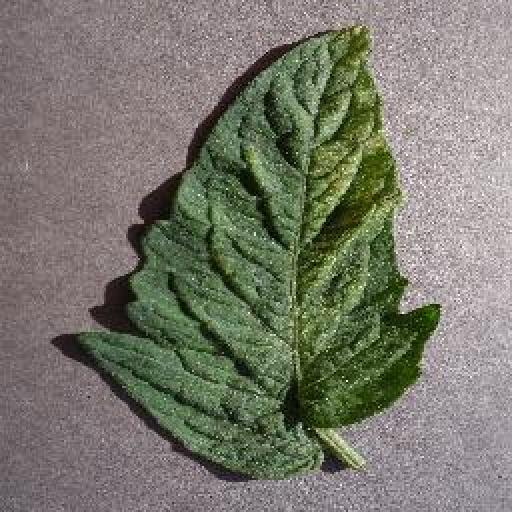disease_tomato: (76, 23, 439, 477)
